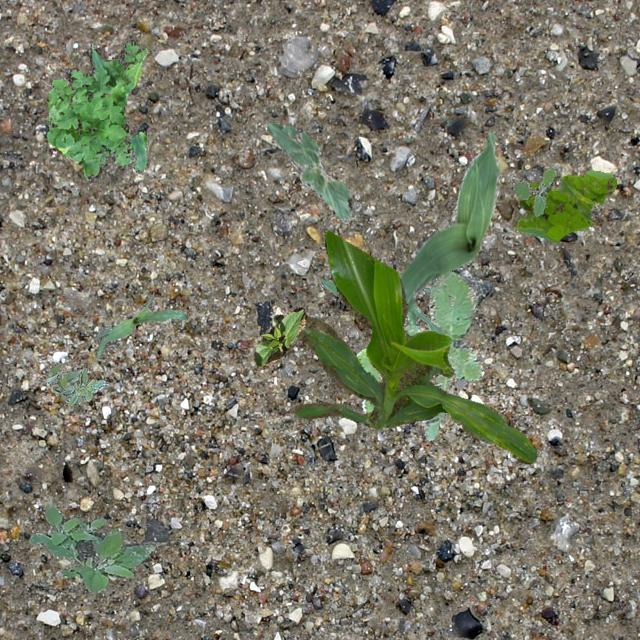crop: (272, 230, 534, 462), (398, 130, 498, 312), (266, 121, 351, 222), (319, 278, 441, 334), (95, 294, 186, 356), (252, 306, 306, 366)
weed: (354, 270, 482, 440), (46, 39, 146, 180), (28, 502, 156, 592), (510, 168, 616, 242), (46, 360, 106, 404), (510, 164, 554, 216)
